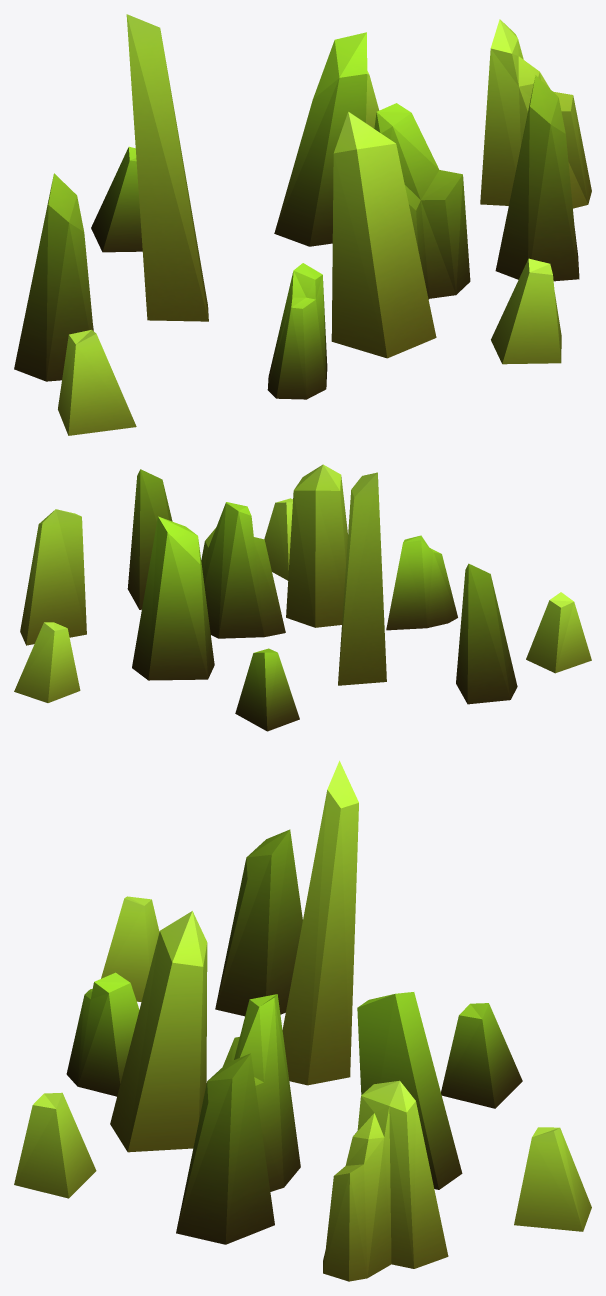
The model's file is ZLP_Crystalk_C_14.FBX.
3 views of the same model, one above another, from view 1: azimuth 30°, elevation 25°; view 2: azimuth 150°, elevation 25°; view 3: azimuth 270°, elevation 25° (orthographic). The views are drawn at different scales.
Parts seen in each view (by area): view 1: ZLP_Crystalk_C_14; view 2: ZLP_Crystalk_C_14; view 3: ZLP_Crystalk_C_14.
Boxes of the visible parts, box(x1,y1,x2,y2) form: ZLP_Crystalk_C_14: box(14, 14, 591, 435); ZLP_Crystalk_C_14: box(14, 464, 591, 731); ZLP_Crystalk_C_14: box(14, 760, 591, 1281).
Size of the model in its own units: 316 by 139 by 247.
